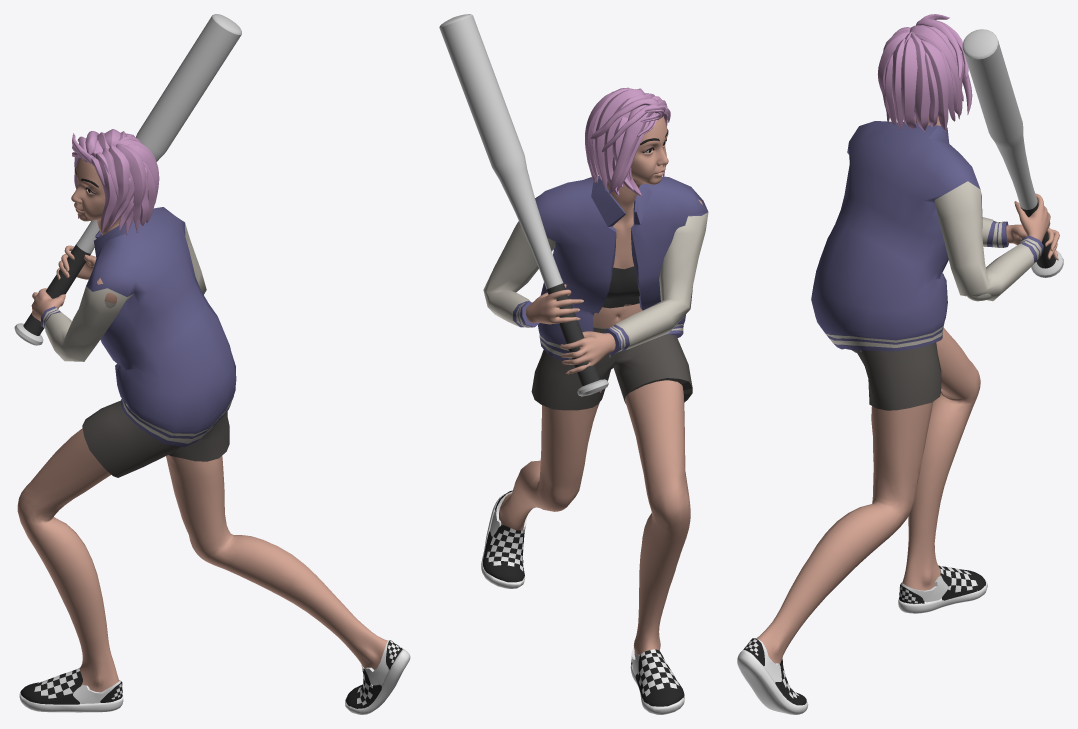
The model's file is Haruka.fbx.
3 renders of one model, left to right at view 1: azimuth 30°, elevation 25°; view 2: azimuth 150°, elevation 25°; view 3: azimuth 270°, elevation 25°, orthographic. The views are drawn at different scales.
Visible parts, largest first — view 1: Jacket_low, Haruka_low1, Baseball_Bat:BaseBall_Bat, Short_low, Hair_2_low, Shoes_11, Shoes_2, Shoes_21, Hair_1_low, Shoes_1, Hair_3_low; view 2: Haruka_low1, Jacket_low, Baseball_Bat:BaseBall_Bat, Short_low, Hair_3_low, Hair_1_low, Shoes_1, Shoes_11, Top_low, Shoes_2, Shoes_21; view 3: Jacket_low, Haruka_low1, Baseball_Bat:BaseBall_Bat, Hair_3_low, Short_low, Hair_2_low, Shoes_2, Hair_1_low, Shoes_11, Shoes_21.
Part boxes in pixels (x1,y1,x2,y2): Jacket_low: (41,207,236,447); Haruka_low1: (17,149,389,692); Baseball_Bat:BaseBall_Bat: (14,14,241,345); Short_low: (82,400,229,477); Hair_2_low: (91,140,158,235); Shoes_11: (20,668,82,704); Shoes_2: (345,649,410,714); Shoes_21: (19,692,123,712); Hair_1_low: (72,131,102,188); Shoes_1: (345,665,381,708); Hair_3_low: (78,129,159,218); Haruka_low1: (499,116,702,656); Jacket_low: (483,176,708,360); Baseball_Bat:BaseBall_Bat: (439,14,608,396); Short_low: (531,326,692,410); Hair_3_low: (585,87,648,196); Hair_1_low: (590,98,665,194); Shoes_1: (483,525,524,582); Shoes_11: (635,649,684,706); Top_low: (602,266,639,308); Shoes_2: (481,494,524,588); Shoes_21: (630,661,684,714); Jacket_low: (811,121,1043,351); Haruka_low1: (756,112,1059,664); Baseball_Bat:BaseBall_Bat: (962,29,1063,277); Hair_3_low: (901,25,963,131); Short_low: (852,342,941,410); Hair_2_low: (877,27,916,131); Shoes_2: (737,649,808,714); Hair_1_low: (916,14,972,114); Shoes_11: (938,565,985,600); Shoes_21: (898,579,987,613).
Bounding box in the file's own units: 83.48 × 177 × 79.66.
